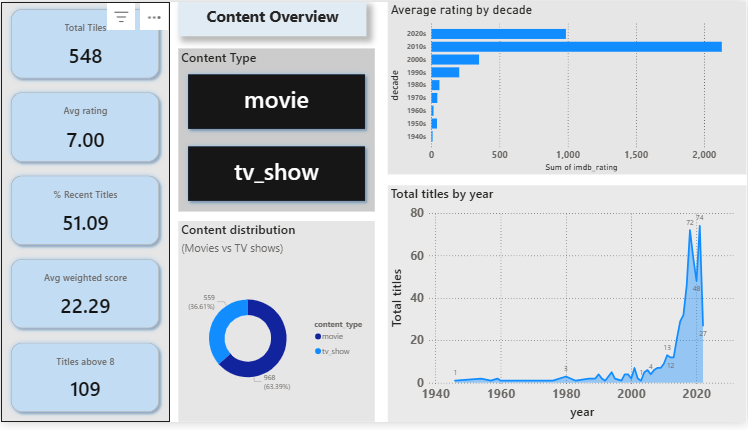

The page's visual inventory and layout, read from the dashboard file:
{"tool":"powerbi","page":{"name":"Page 1","canvas":[1280,720],"ordinal":0},"visuals":[{"type":"cardVisual","fields":{"Data":["titles.Total Tiles","titles.Avg rating","titles.% recent","titles.Avg weighted score","titles.Titles above 8"]},"box":[0,0,288.9,719.5],"z":0},{"type":"advancedSlicerVisual","title":"Content Type","fields":{"Values":["titles.content_type"]},"box":[303.2,78.9,337.3,279.9],"z":1000},{"type":"lineChart","fields":{"Category":["titles.year"],"Y":["Append1.Total titles"]},"box":[663.9,314,615.4,405.5],"z":2000},{"type":"donutChart","title":"Content distribution","fields":{"Category":["titles.content_type"],"Y":["CountNonNull(platforms.title)"]},"box":[303.2,375,337.3,344.5],"z":3000},{"type":"barChart","title":"Average rating by decade","fields":{"Y":["Sum(titles.imdb_rating)"],"Category":["titles.decade"]},"box":[663.9,0,615.4,296.1],"z":4000},{"type":"textbox","box":[303.2,0,323,59.2],"z":5000}]}

Visuals, with their boxes in screenshot pixels (x1, y1, x2, y2), scaled from the page's 1280x720 canvas onto the 748x430 screenshot:
cardVisual - titles.Total Tiles x titles.Avg rating: {"left": 0, "top": 0, "right": 169, "bottom": 429}
"Content Type" advancedSlicerVisual: {"left": 177, "top": 47, "right": 374, "bottom": 214}
lineChart - titles.year x Append1.Total titles: {"left": 388, "top": 188, "right": 747, "bottom": 429}
"Content distribution" donutChart: {"left": 177, "top": 224, "right": 374, "bottom": 429}
"Average rating by decade" barChart: {"left": 388, "top": 0, "right": 747, "bottom": 177}
textbox: {"left": 177, "top": 0, "right": 366, "bottom": 35}
